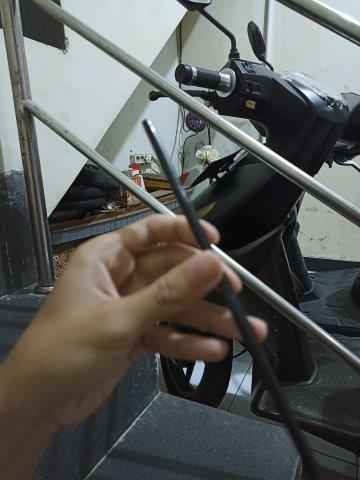sedotan: (143, 118, 309, 465)
